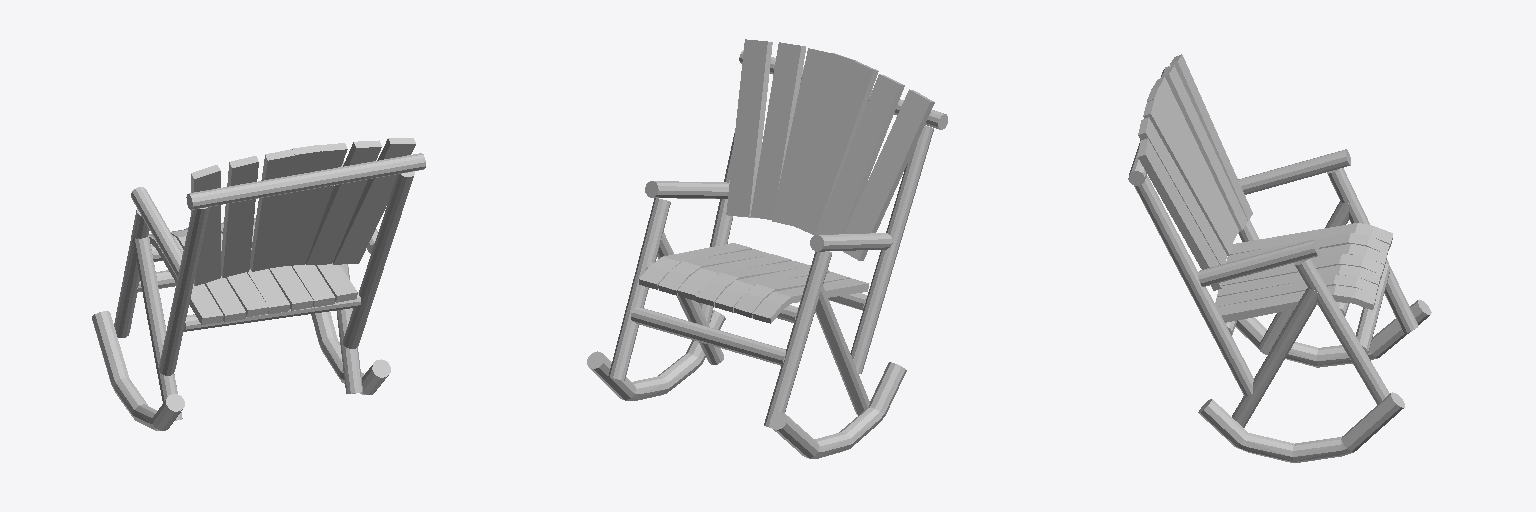
File: woodchair.obj
3 views of the same model, side by side, from view 1: azimuth 30°, elevation 25°; view 2: azimuth 150°, elevation 25°; view 3: azimuth 270°, elevation 25° (orthographic).
Visible parts, largest first — view 1: group[number redacted]; view 2: group[number redacted]; view 3: group[number redacted].
Part boxes in pixels (left/top/right/bottom): group[number redacted]: left=92, top=138, right=425, bottom=430; group[number redacted]: left=587, top=39, right=947, bottom=458; group[number redacted]: left=1128, top=54, right=1431, bottom=462.
Size of the model in its own units: 0.9857 by 1.22 by 1.06.